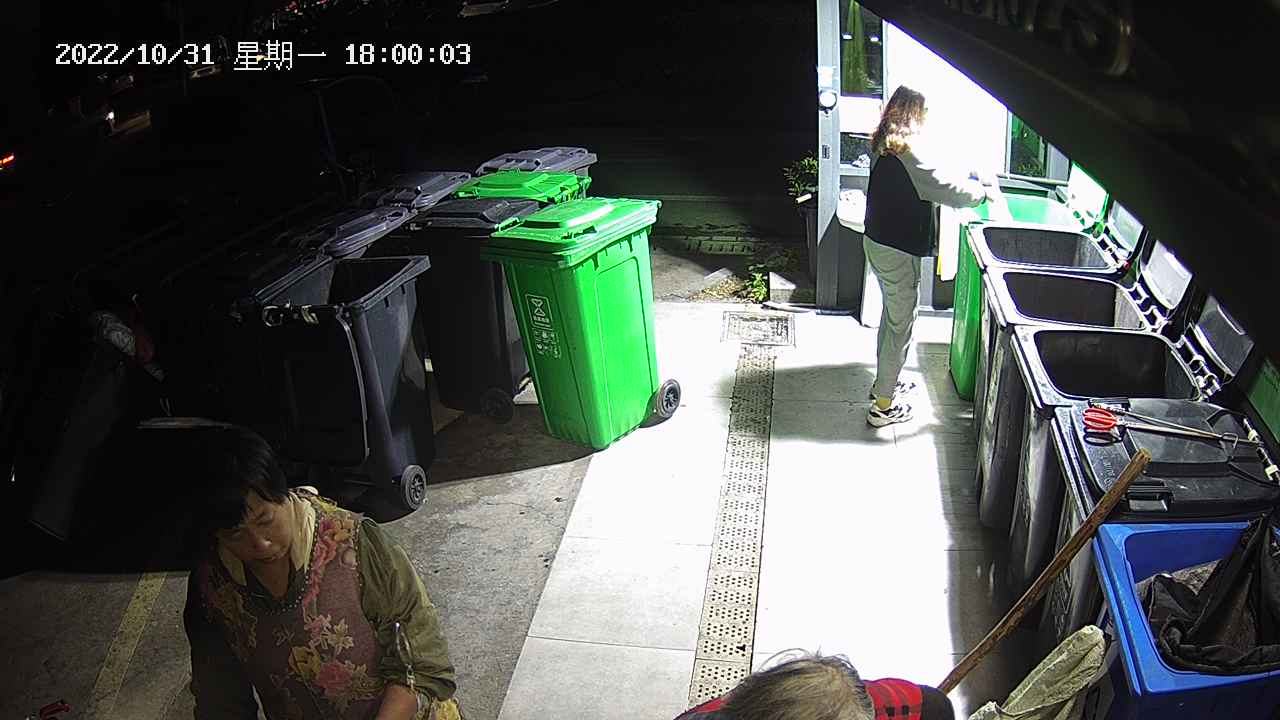person: (178, 425, 459, 720), (859, 83, 989, 427), (667, 646, 956, 720)
